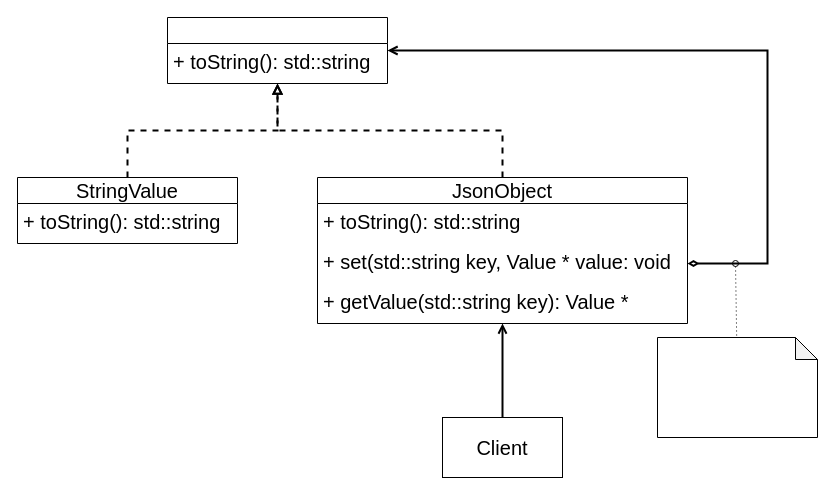
The diagram is 835 pixels wide and 495 high, and some of its shapes have lost their labels. The shapes that lost their labels are listed below. From the top down, each one's box as (x1, y1, x2, y2) in pixels, then its label:
(166, 16, 388, 84): Value
(656, 336, 818, 438): key-value pair key: string value: Value * *HINT*: use std::map
